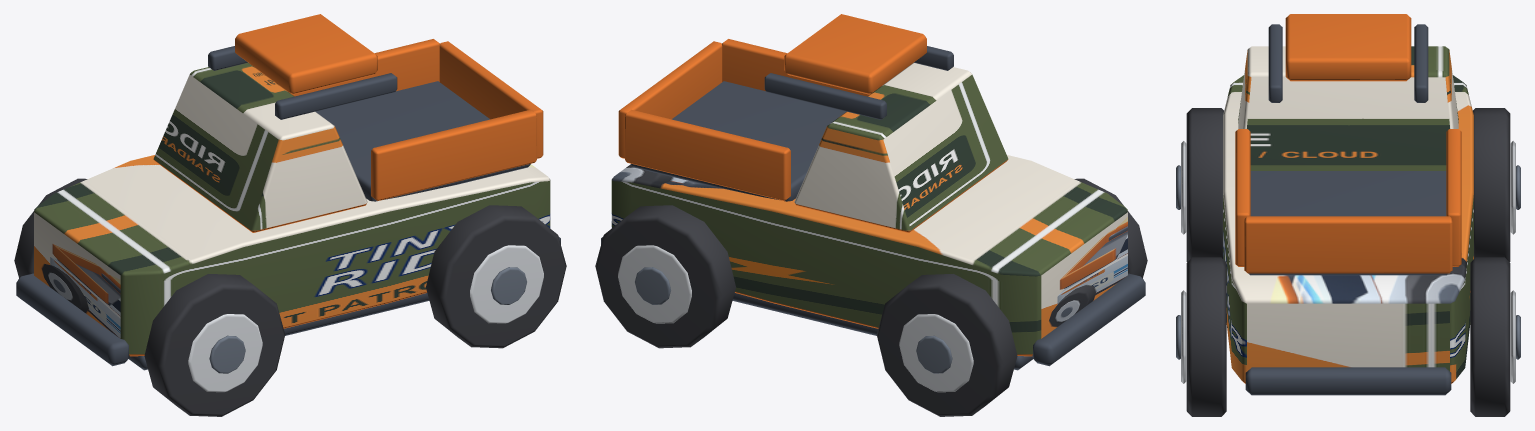
3 renders of one model, left to right at view 1: azimuth 30°, elevation 25°; view 2: azimuth 150°, elevation 25°; view 3: azimuth 270°, elevation 25°, orthographic. The views are drawn at different scales.
Parts seen in each view (by area): view 1: DP-02_connected_shell, DP-02_cabin, Tire.002, Tire, cargo side, cargo floor, utility load, cargo tail, front bumper, Rim.002, Rim, cargo side.001 (+6 smaller); view 2: DP-02_connected_shell, DP-02_cabin, Tire.003, Tire.001, cargo side.001, cargo floor, utility load, cargo tail, front bumper, Rim.003, Rim.001, cargo side (+6 smaller); view 3: DP-02_connected_shell, DP-02_cabin, cargo tail, cargo floor, utility load, Tire.002, Tire.003, rear bumper, Tire, Tire.001, cargo side, cargo side.001 (+6 smaller).
Part boxes in pixels (box(x1,y1,x2,y2)): DP-02_connected_shell: box(34, 155, 550, 356); DP-02_cabin: box(153, 62, 367, 232); Tire.002: box(426, 205, 566, 348); Tire: box(144, 274, 285, 416); cargo side: box(371, 109, 536, 200); cargo floor: box(315, 81, 530, 201); utility load: box(235, 14, 377, 94); cargo tail: box(439, 41, 543, 158); front bumper: box(16, 273, 129, 366); Rim.002: box(470, 245, 543, 323); Rim: box(188, 314, 262, 392); cargo side.001: box(292, 39, 439, 96); DP-02_connected_shell: box(611, 155, 1127, 356); DP-02_cabin: box(794, 62, 1008, 232); Tire.003: box(595, 205, 735, 348); Tire.001: box(876, 274, 1017, 416); cargo side.001: box(625, 109, 790, 200); cargo floor: box(631, 81, 846, 201); utility load: box(784, 14, 926, 94); cargo tail: box(618, 41, 722, 158); front bumper: box(1032, 273, 1145, 366); Rim.003: box(618, 245, 691, 323); Rim.001: box(899, 314, 973, 392); cargo side: box(722, 39, 869, 96); DP-02_connected_shell: box(1223, 75, 1473, 383); DP-02_cabin: box(1238, 46, 1458, 170); cargo tail: box(1244, 216, 1452, 273); cargo floor: box(1248, 171, 1448, 275); utility load: box(1285, 14, 1411, 81); Tire.002: box(1186, 257, 1226, 416); Tire.003: box(1470, 257, 1510, 416); rear bumper: box(1245, 367, 1451, 395); Tire: box(1186, 108, 1223, 262); Tire.001: box(1473, 108, 1510, 262); cargo side: box(1235, 129, 1250, 266); cargo side.001: box(1446, 129, 1461, 266).
Size of the model in its own units: 371 by 220 by 224.
